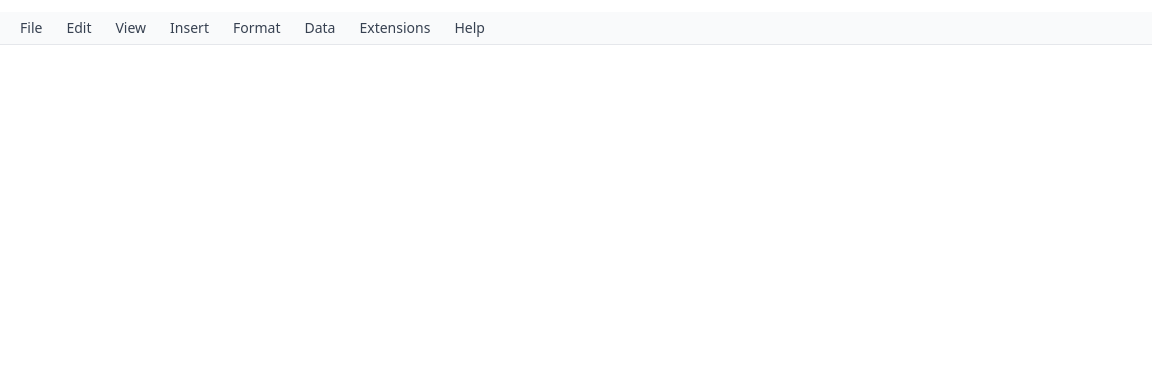
Scenario: MenuBar › Edit menu shows Copy, Cut, Paste items
This screenshot has width=1152, height=384.
Click the button "Edit".
click(79, 28)  # box [54,14,104,42]
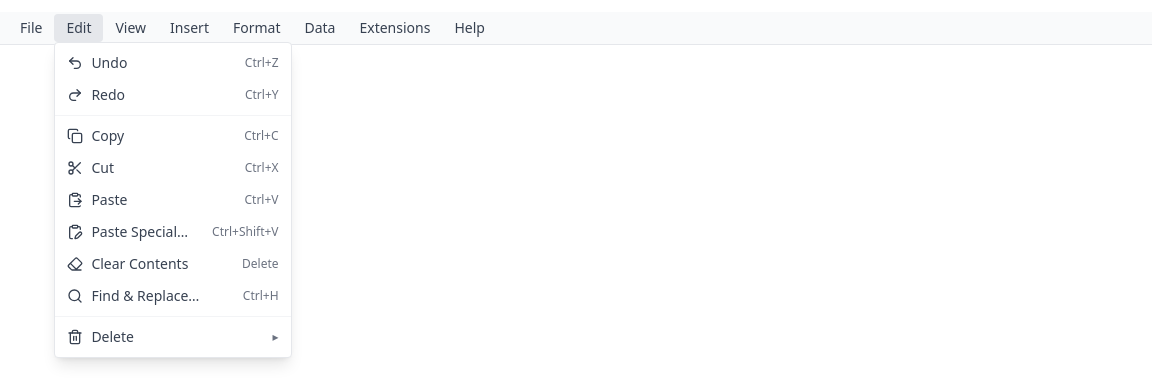
expect the text "Copy" is shown: met, box [91,126,124,145]
expect the text "Cut" is shown: met, box [91,158,114,177]
expect the text "Paste" is shown: met, box [91,190,127,209]
